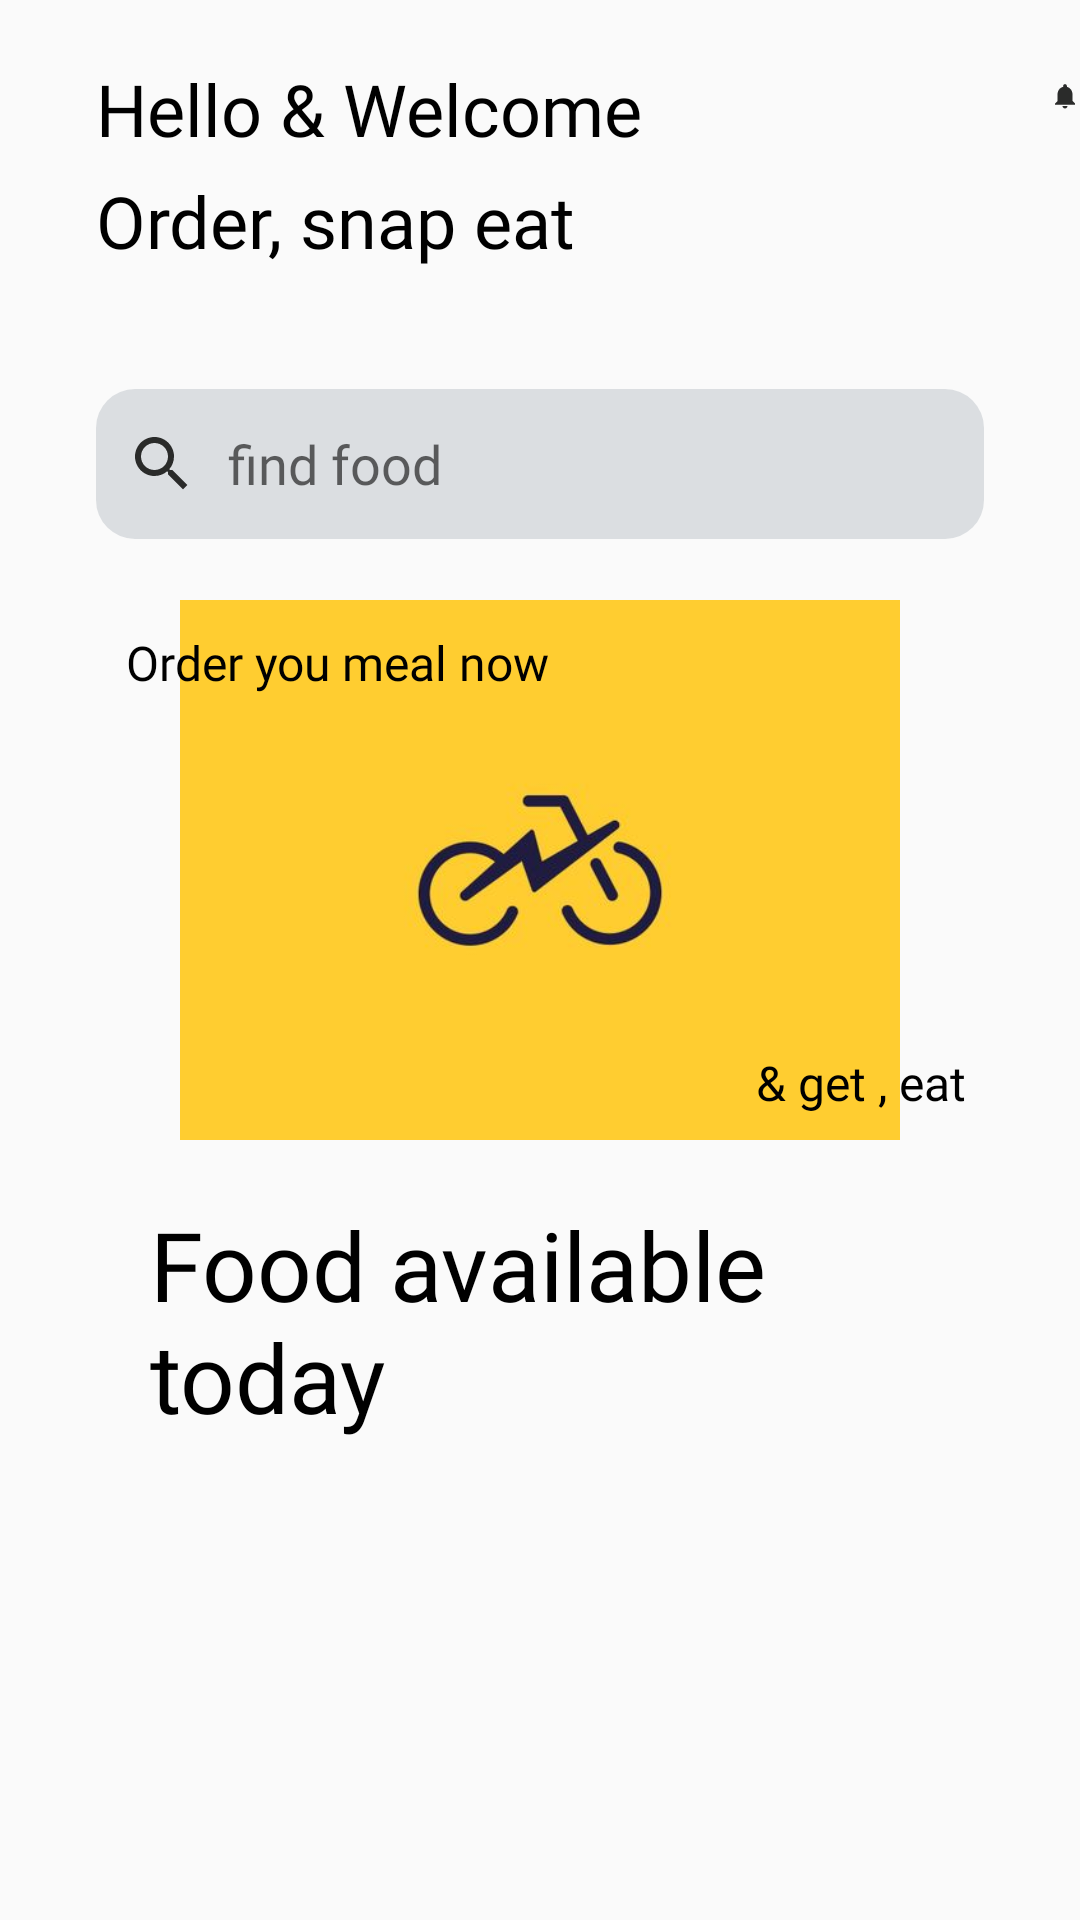

Named icons in this screenshot (1080px×1920px) and their centers, (x,y):
notifications: (1065,96)
